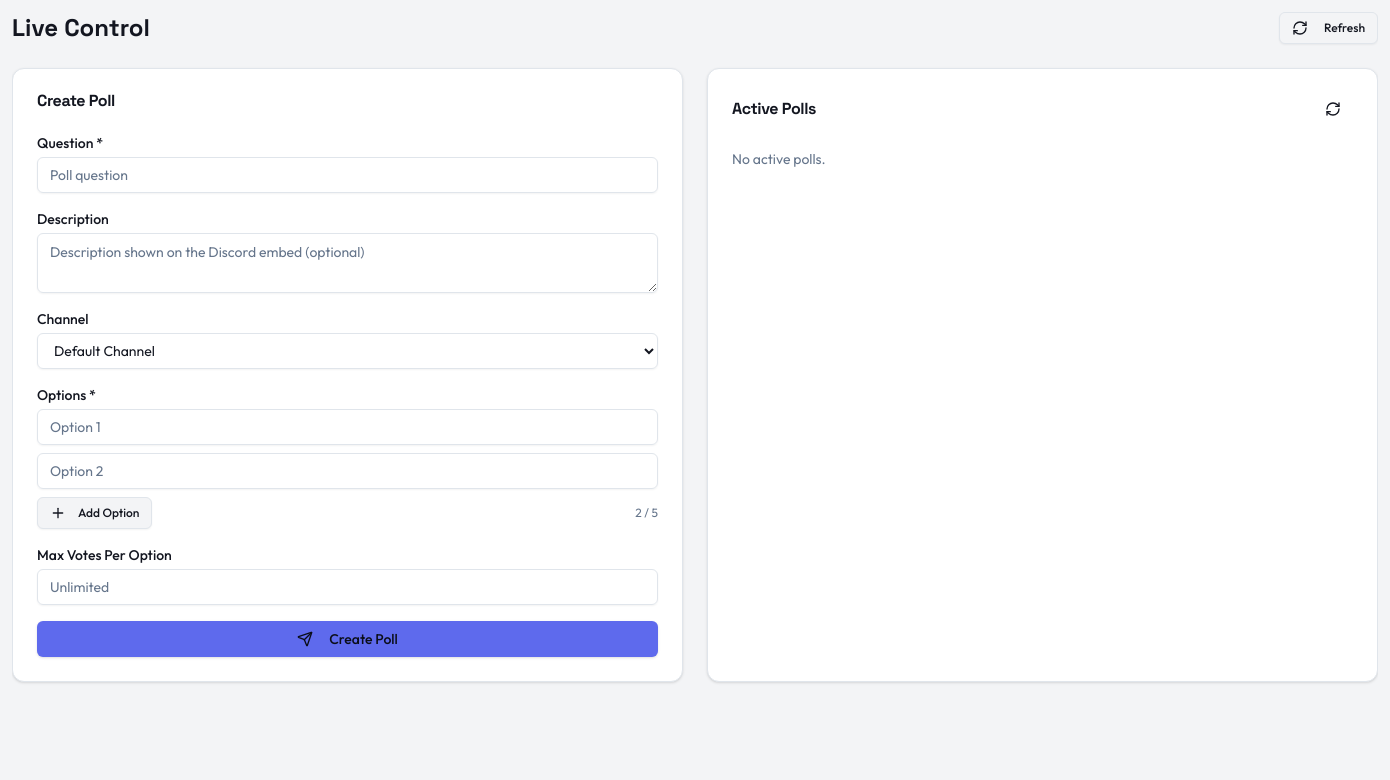
it: LiveControl › validates minimum options before submit
Step 1. Type "My Question" into the field with placeholder "Poll question" → (348, 175), box [37, 157, 658, 193]
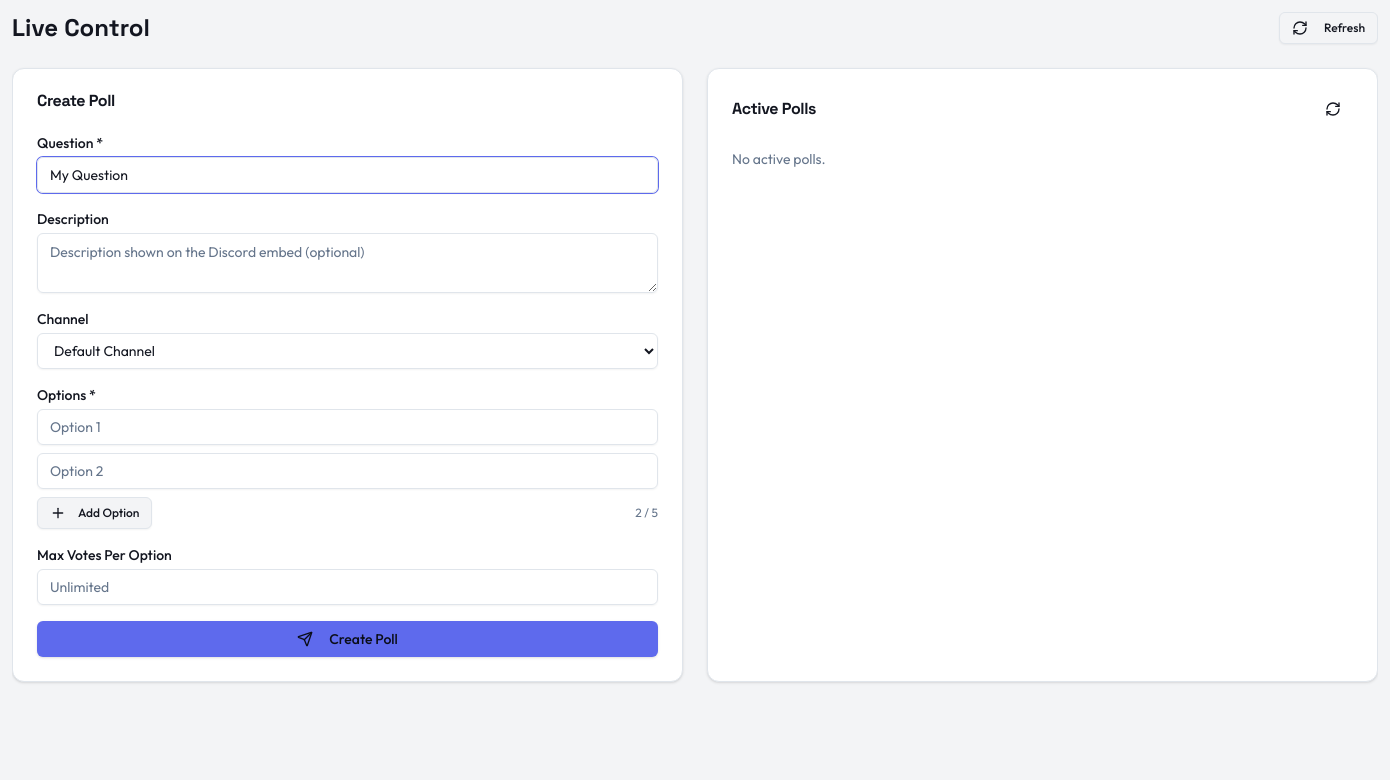
Step 2. Type "Yes" into the field with placeholder "Option 1" → (348, 427), box [37, 409, 658, 445]
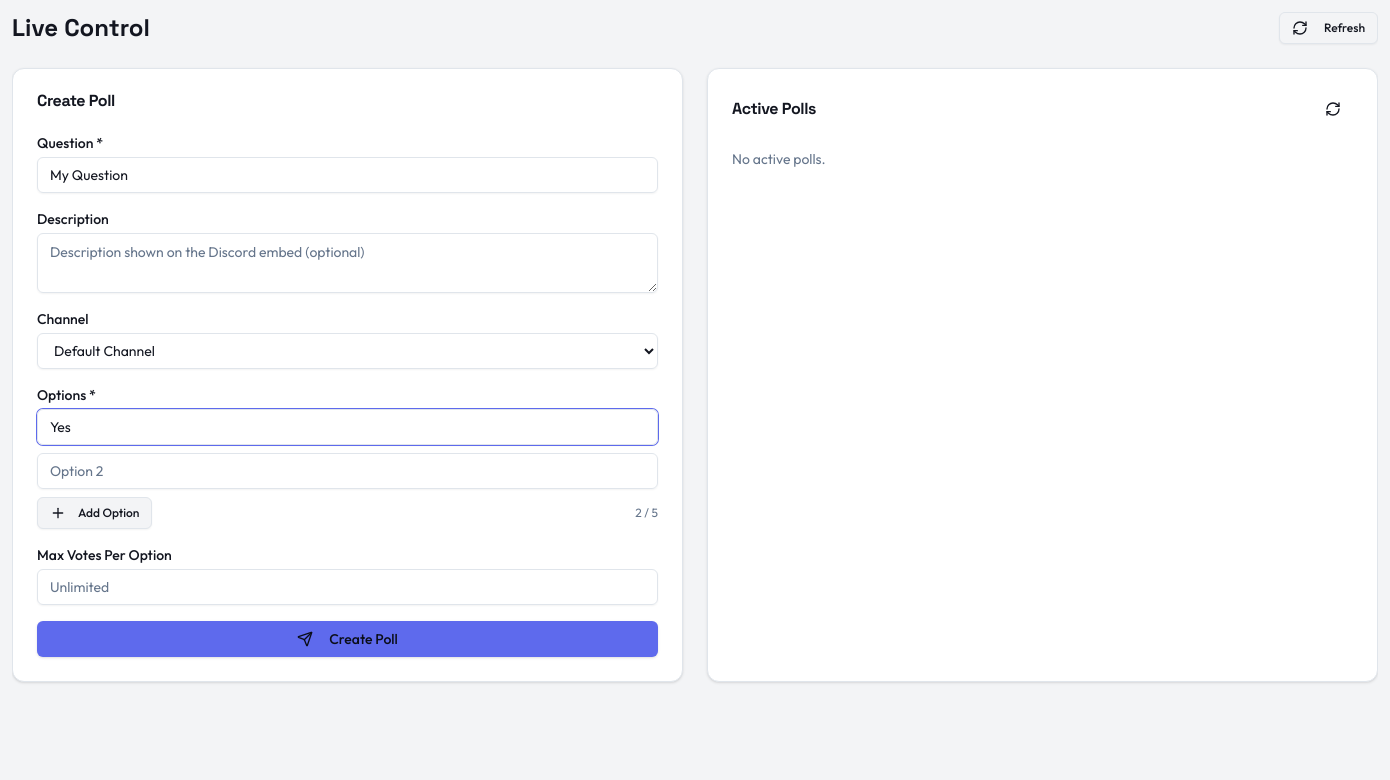
Step 3. Type "No" into the field with placeholder "Option 2" → (348, 471), box [37, 453, 658, 489]
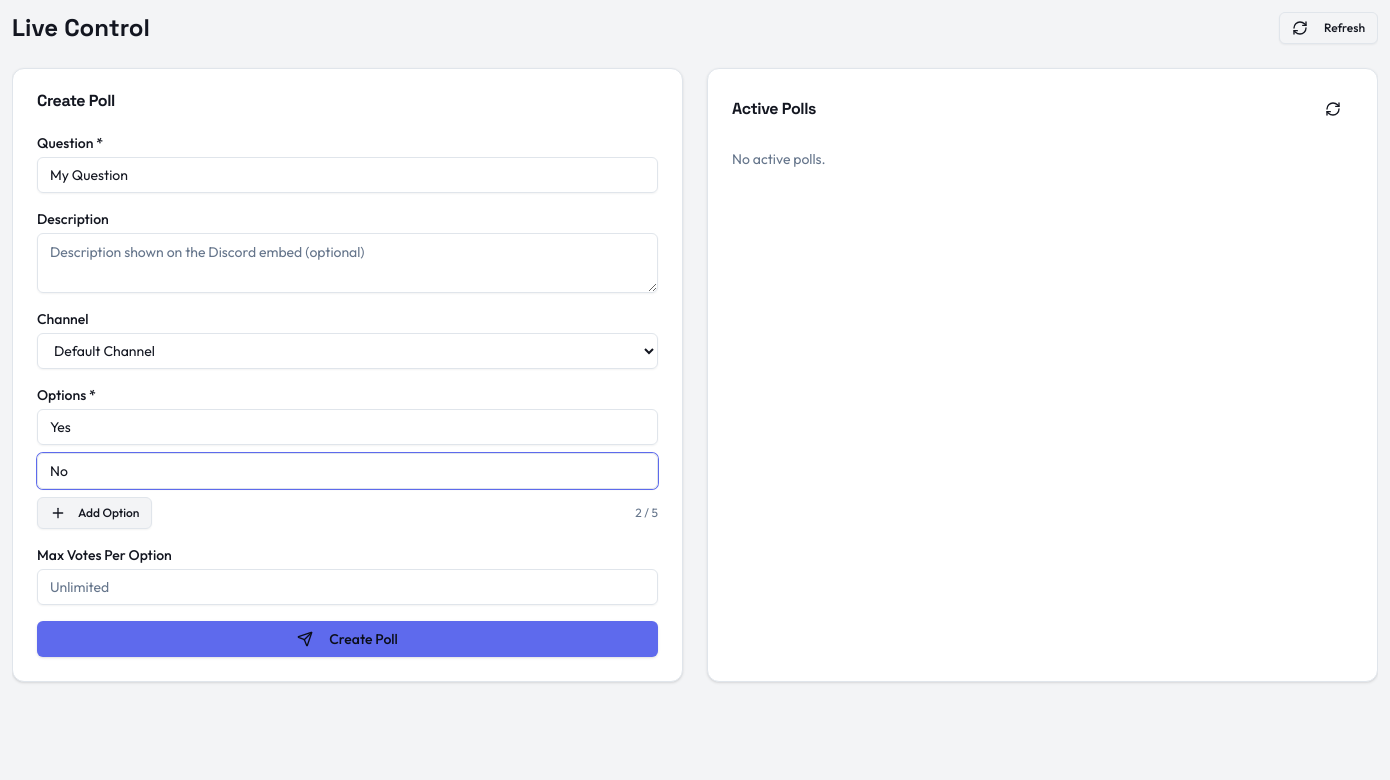
# Clear both options to trigger validation
Step 4. Clear the 1st field with placeholder "Option 1" → (348, 427), box [37, 409, 658, 445]
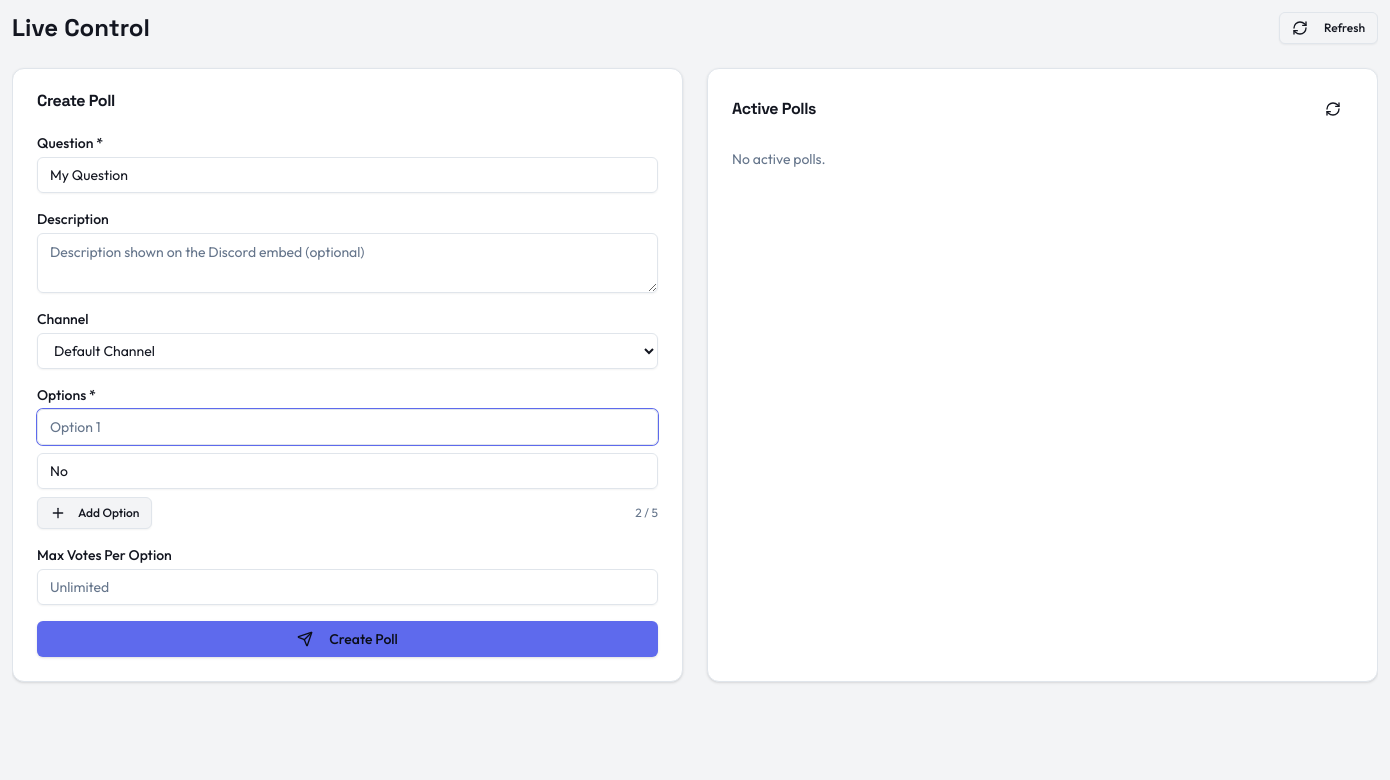
Step 5. Clear the field with placeholder "Option 2" → (348, 471), box [37, 453, 658, 489]
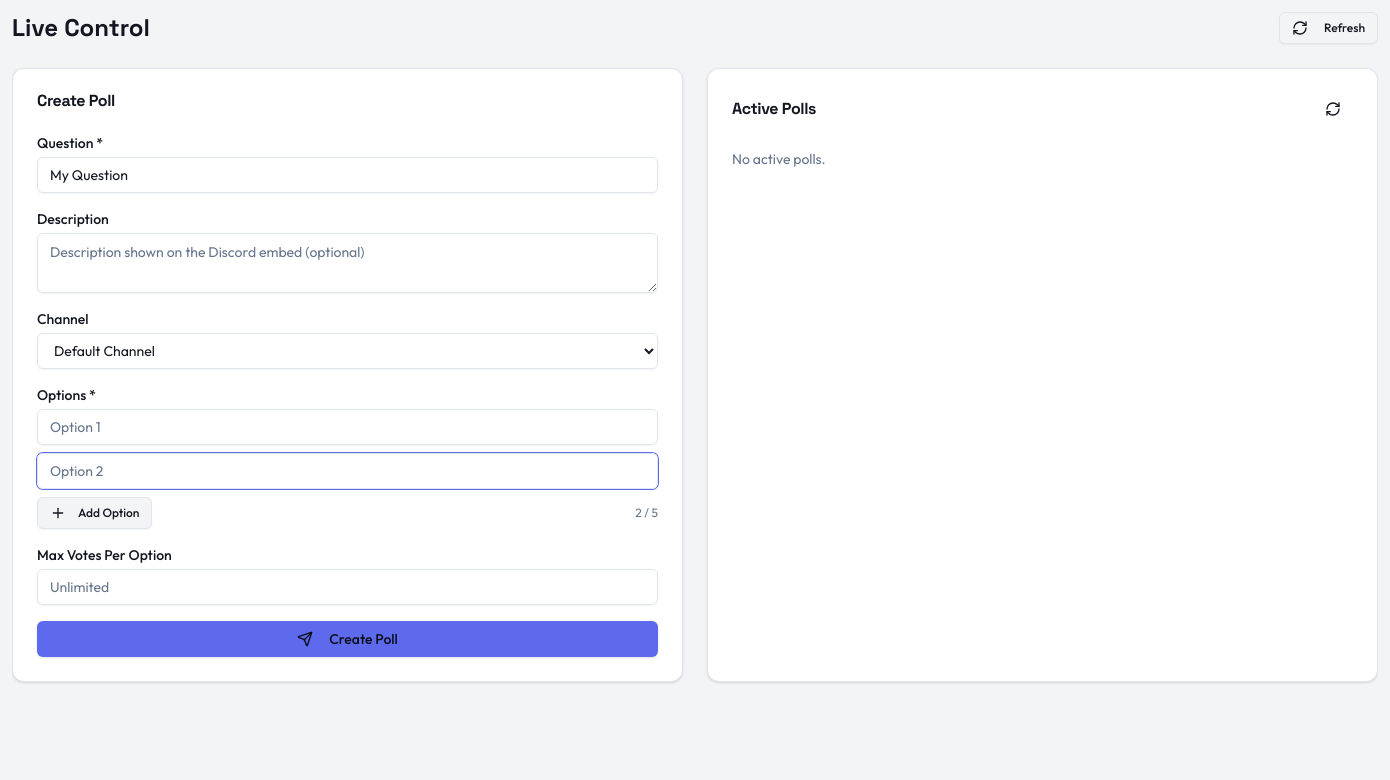
Step 6. Click the button "Create Poll" → (348, 639), box [37, 621, 658, 657]
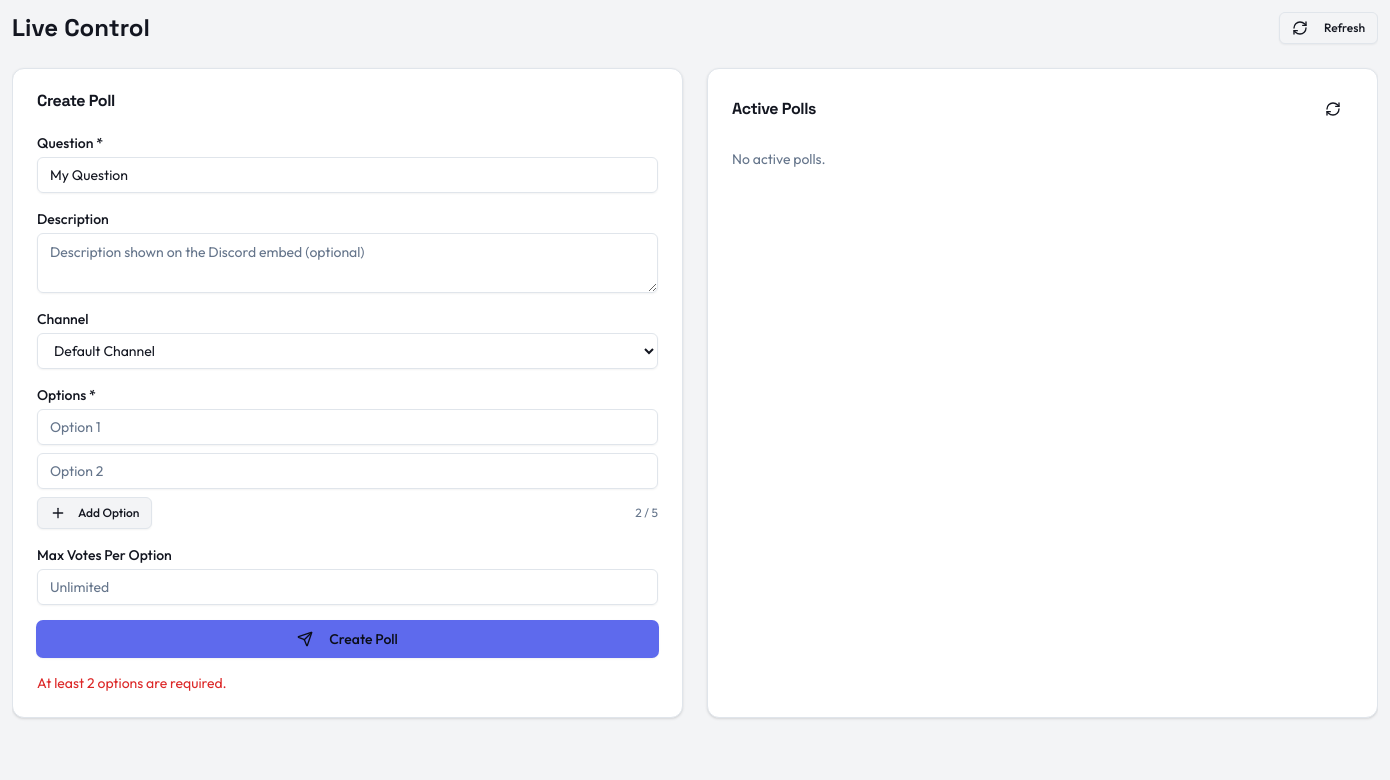
Expected: the text "At least 2 options are required." is shown, [37, 674, 227, 692]
